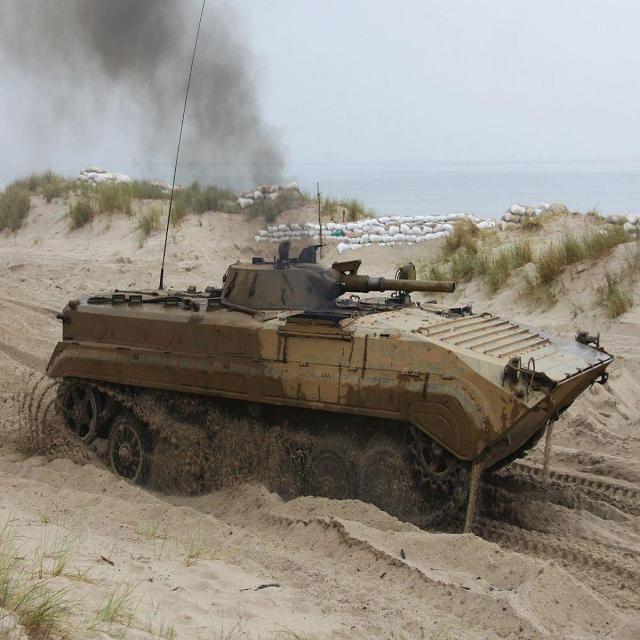Tanks: (45, 239, 618, 523)
